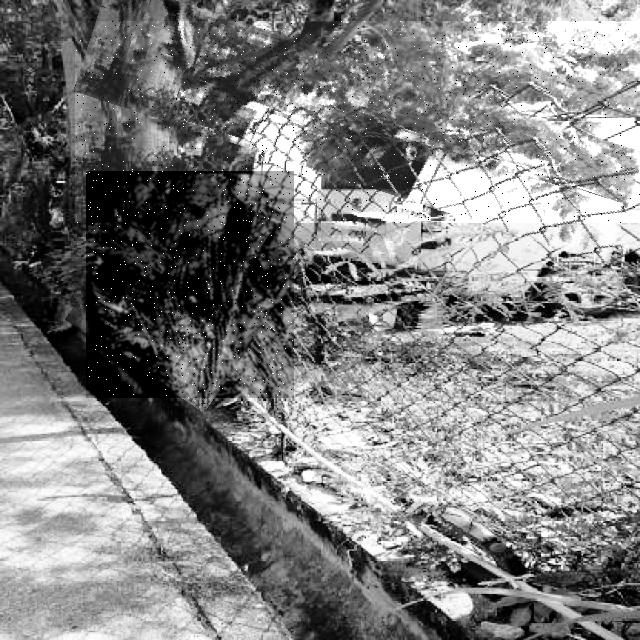anomaly-fence: (75, 21, 640, 223), (86, 171, 294, 398)
